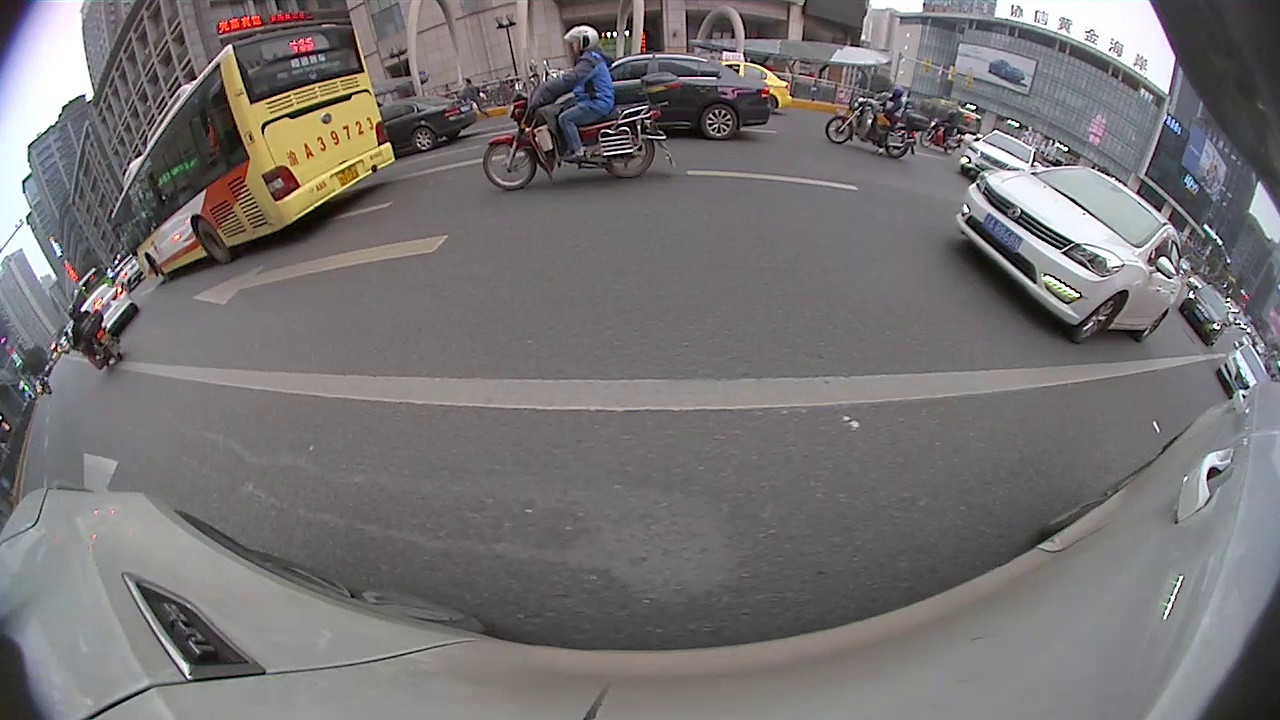bus: (111, 23, 403, 284)
car: (961, 166, 1186, 344), (546, 51, 769, 147), (381, 98, 474, 158), (1177, 284, 1234, 349), (1219, 343, 1271, 402)
front: (480, 139, 539, 193), (1071, 290, 1119, 346), (824, 114, 857, 146)
rear: (603, 137, 655, 181), (194, 216, 236, 268), (701, 104, 738, 144), (413, 125, 435, 154), (882, 143, 911, 161)
rider: (476, 27, 663, 193), (823, 83, 926, 162), (66, 307, 126, 374)
